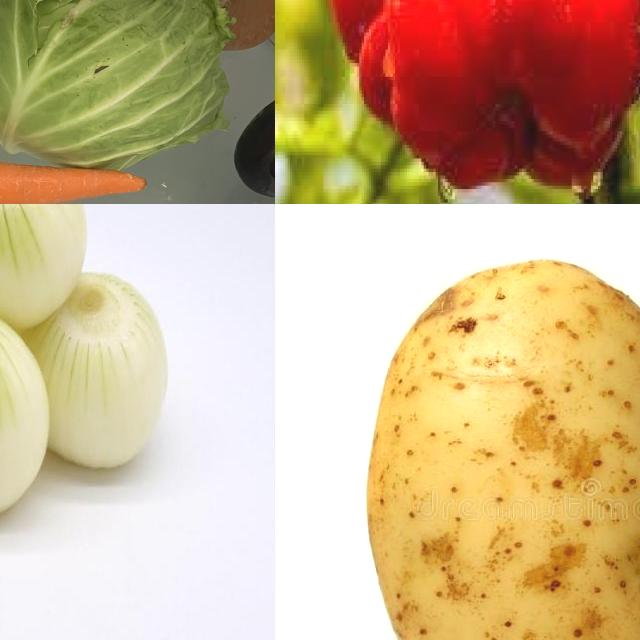bell_pepper: (324, 1, 640, 205)
cabbage: (1, 1, 241, 165)
carrot: (1, 137, 152, 205)
eggplant: (233, 90, 276, 202)
onion: (15, 272, 171, 476), (1, 315, 56, 512), (1, 205, 86, 332), (189, 1, 276, 54)
potato: (370, 258, 640, 640)
